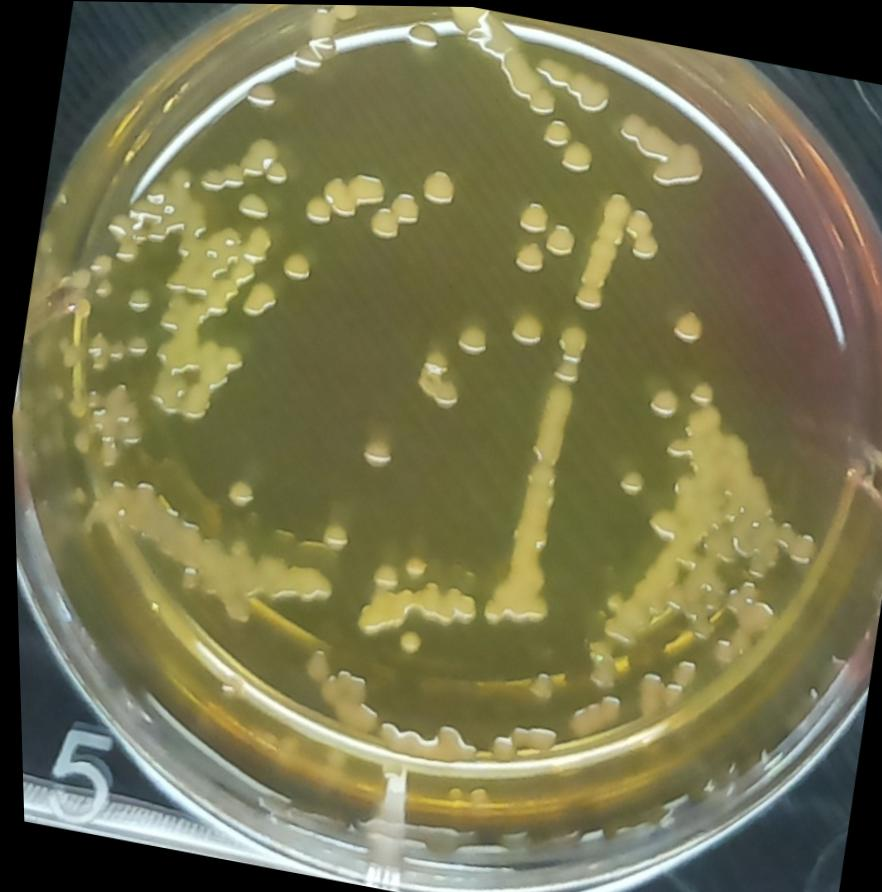vharveyi: (468, 356, 591, 644), (561, 175, 635, 315), (410, 157, 462, 212)
